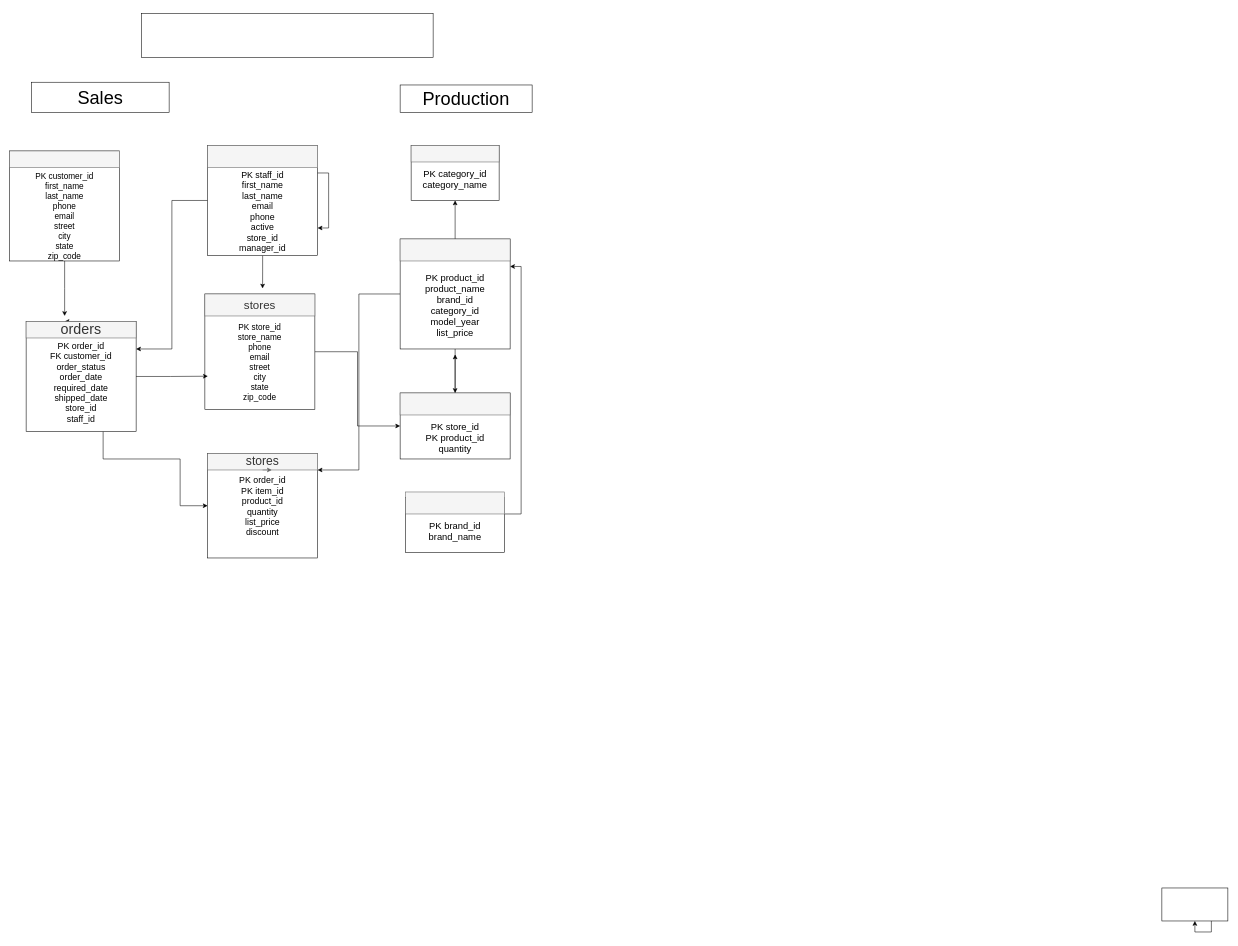
Image size: 1238x946. Some labels were removed from this diagram. Here are the shapes that lost their labels. From the top down, the centre of each, then its label:
At point 287,35: "Data Architecture For DataWarehouse Project".
At point 64,158: "customers".
At point 262,156: "staffs".
At point 455,153: "categories".
At point 455,249: "products".
At point 455,403: "stocks".
At point 455,502: "brands".
